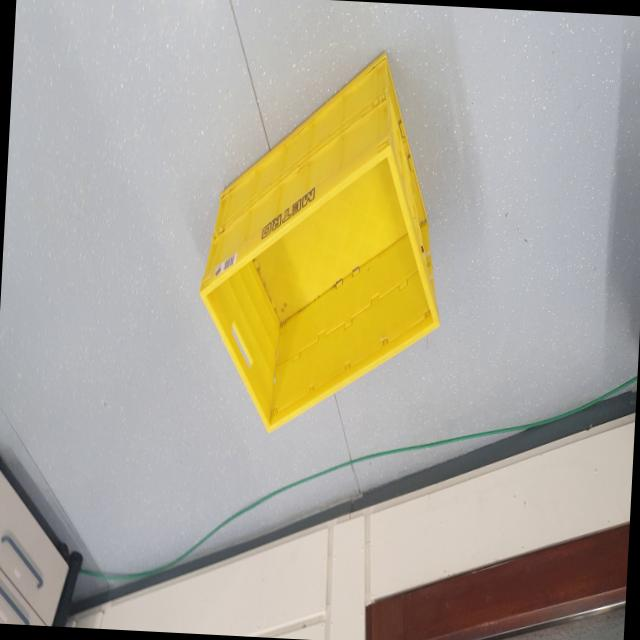box: (192, 36, 457, 452)
